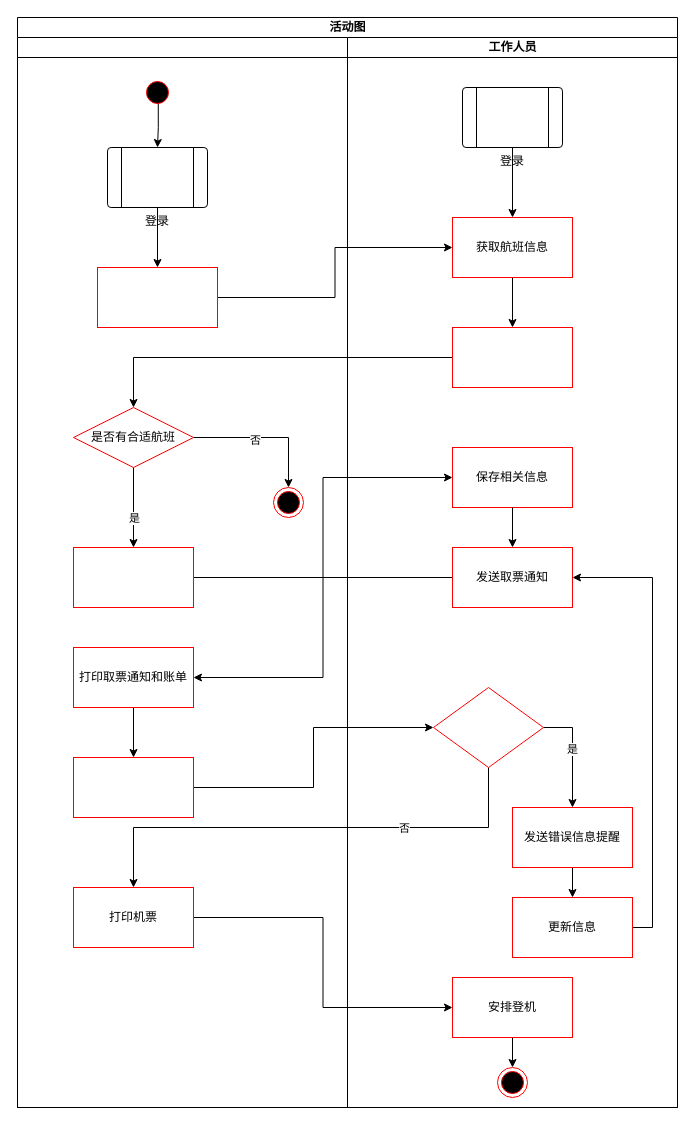
The diagram is 695 pixels wide and 1125 high, and some of its shapes have lost their labels. The box of each missing label's shape, as (x1, y1, x2, y2) in pixels:
交费取票: (72, 756, 194, 818)
提示航班信息: (452, 326, 572, 388)
旅客: (16, 36, 348, 1108)
查询航班: (96, 266, 218, 328)
检查信息是否有误: (432, 686, 544, 768)
预定机票: (72, 546, 194, 608)
